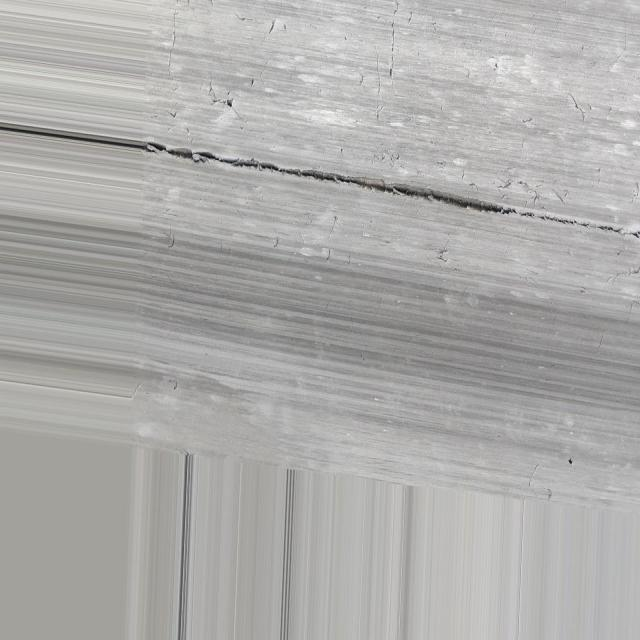Puncture: (227, 98, 233, 107), (250, 79, 254, 87)
Tear: (159, 140, 638, 240)
